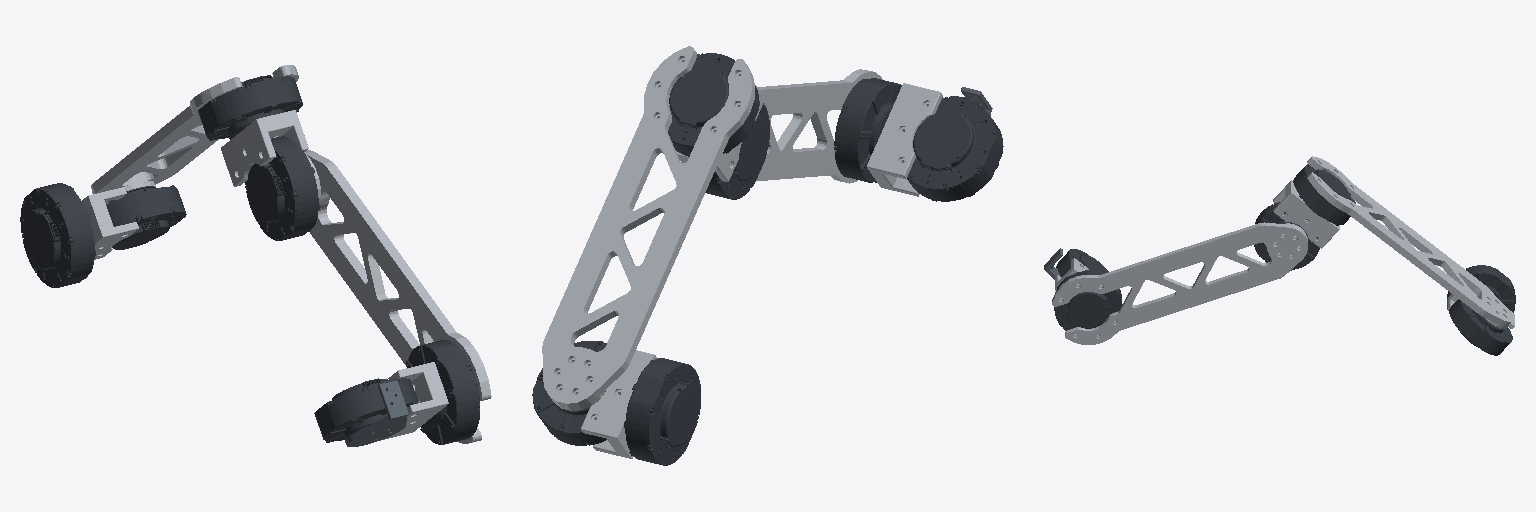
robot.urdf — qmini_arm:
<?xml version="1.0"?>
<robot name="qmini_arm">
  <!--
    Generated from Qmini-arm.SLDASM.
    Joint zero matches the saved CAD pose. All meshes and dimensions use SI units.
  -->
  <material name="motor_gray">
    <color rgba="0.27 0.29 0.32 1.0"/>
  </material>
  <material name="link_silver">
    <color rgba="0.72 0.74 0.77 1.0"/>
  </material>
  <material name="tool_gray">
    <color rgba="0.40 0.43 0.47 1.0"/>
  </material>
  <!-- Fixed GO-M8010-6 motor housing. -->
  <link name="base_link">
    <inertial>
      <origin rpy="0 0 0" xyz="0.001694875 0.000113148 0.000030767"/>
      <mass value="0.5"/>
      <inertia ixx="0.000552544" ixy="-7.06e-07" ixz="-2.61e-07" iyy="0.000317218" iyz="-5.587e-06" izz="0.000316759"/>
    </inertial>
    <visual>
      <origin rpy="0 0 0" xyz="0 0 0"/>
      <geometry>
        <mesh filename="meshes/visual/motor.stl"/>
      </geometry>
      <material name="motor_gray"/>
    </visual>
    <collision>
      <origin rpy="0 1.570796327 0" xyz="0 0 0"/>
      <geometry>
        <cylinder length="0.0423" radius="0.04825"/>
      </geometry>
    </collision>
  </link>
  <!-- Output of motor 1: first orthogonal bracket and motor 2 housing. -->
  <link name="link_1">
    <inertial>
      <origin rpy="0 0 0" xyz="0.075587838 0.000106623 0.000545006"/>
      <mass value="0.585848904"/>
      <inertia ixx="0.000390445" ixy="-2.165e-06" ixz="-3.57e-06" iyy="0.000629433" iyz="0.000134515" izz="0.000673929"/>
    </inertial>
    <visual>
      <origin rpy="0 -0.702123322 -1.570796327" xyz="0.021150004 -0.000400374 -0.000138396"/>
      <geometry>
        <mesh filename="meshes/visual/joint_bracket.stl"/>
      </geometry>
      <material name="link_silver"/>
    </visual>
    <visual>
      <origin rpy="2.297484930 -0.868673004 1.570796327" xyz="0.082449884 -0.000852249 -0.000673012"/>
      <geometry>
        <mesh filename="meshes/visual/motor.stl"/>
      </geometry>
      <material name="motor_gray"/>
    </visual>
    <collision>
      <origin rpy="0 -0.702123322 -1.570796327" xyz="0.041150004 -0.000400374 -0.000138396"/>
      <geometry>
        <box size="0.09 0.04 0.043"/>
      </geometry>
    </collision>
    <collision>
      <origin rpy="0.563778620 -0.443490870 -2.545301700" xyz="0.082449884 -0.000852249 -0.000673012"/>
      <geometry>
        <cylinder length="0.0423" radius="0.04825"/>
      </geometry>
    </collision>
  </link>
  <!-- Output of motor 2: first long arm and motor 3 housing. -->
  <link name="link_2">
    <inertial>
      <origin rpy="0 0 0" xyz="0.017320335 0.187087057 -0.166220843"/>
      <mass value="0.725038699"/>
      <inertia ixx="0.007191282" ixy="0.000370476" ixz="-0.000328071" iyy="0.00332923" iyz="0.00310238" izz="0.00406504"/>
    </inertial>
    <visual>
      <origin rpy="3.141592654 0.726688605 1.570796327" xyz="0.026150004 0.224214862 -0.199318093"/>
      <geometry>
        <mesh filename="meshes/visual/arm_link.stl"/>
      </geometry>
      <material name="link_silver"/>
    </visual>
    <visual>
      <origin rpy="1.453370820 0 -3.141592654" xyz="0.013000008 0.224214994 -0.199318371"/>
      <geometry>
        <mesh filename="meshes/visual/motor.stl"/>
      </geometry>
      <material name="motor_gray"/>
    </visual>
    <collision>
      <origin rpy="3.141592654 0.726688605 1.570796327" xyz="0.028650000 0.112108070 -0.099658330"/>
      <geometry>
        <box size="0.3003 0.015 0.075"/>
      </geometry>
    </collision>
    <collision>
      <origin rpy="1.570796327 0.117425510 -1.570796327" xyz="0.013000008 0.224214994 -0.199318371"/>
      <geometry>
        <cylinder length="0.0423" radius="0.04825"/>
      </geometry>
    </collision>
  </link>
  <!-- Output of motor 3: second orthogonal bracket and motor 4 housing. -->
  <link name="link_3">
    <inertial>
      <origin rpy="0 0 0" xyz="0.075420473 0.002699494 0.002954370"/>
      <mass value="0.585848904"/>
      <inertia ixx="0.000391982" ixy="-1.0197e-05" ixz="-1.1785e-05" iyy="0.000634832" iyz="0.000134596" izz="0.000667344"/>
    </inertial>
    <visual>
      <origin rpy="0 -0.726682211 -1.570796327" xyz="0.021150004 0.000000013 -0.000000002"/>
      <geometry>
        <mesh filename="meshes/visual/joint_bracket.stl"/>
      </geometry>
      <material name="link_silver"/>
    </visual>
    <visual>
      <origin rpy="-0.844107722 -0.844114116 1.570796327" xyz="0.082450124 0.001988742 0.002237564"/>
      <geometry>
        <mesh filename="meshes/visual/motor.stl"/>
      </geometry>
      <material name="motor_gray"/>
    </visual>
    <collision>
      <origin rpy="0 -0.726682211 -1.570796327" xyz="0.041150004 0.000000013 -0.000000002"/>
      <geometry>
        <box size="0.09 0.04 0.043"/>
      </geometry>
    </collision>
    <collision>
      <origin rpy="-0.586424700 0.457182900 0.586433260" xyz="0.082450124 0.001988742 0.002237564"/>
      <geometry>
        <cylinder length="0.0423" radius="0.04825"/>
      </geometry>
    </collision>
  </link>
  <!-- Output of motor 4: second long arm and motor 5 housing. -->
  <link name="link_4">
    <inertial>
      <origin rpy="0 0 0" xyz="0.017320335 -0.237495080 -0.078911412"/>
      <mass value="0.725038699"/>
      <inertia ixx="0.007191282" ixy="-0.000469355" ixz="-0.000156809" iyy="0.001194371" iyz="-0.001869837" izz="0.006199898"/>
    </inertial>
    <visual>
      <origin rpy="0 0.320515340 -1.570796327" xyz="0.026150004 -0.284721942 -0.094516711"/>
      <geometry>
        <mesh filename="meshes/visual/arm_link.stl"/>
      </geometry>
      <material name="link_silver"/>
    </visual>
    <visual>
      <origin rpy="-2.735419390 0 3.141592654" xyz="0.013000008 -0.284722248 -0.094516687"/>
      <geometry>
        <mesh filename="meshes/visual/motor.stl"/>
      </geometry>
      <material name="motor_gray"/>
    </visual>
    <collision>
      <origin rpy="0 0.320515340 -1.570796327" xyz="0.028650000 -0.142360960 -0.047258360"/>
      <geometry>
        <box size="0.3003 0.015 0.075"/>
      </geometry>
    </collision>
    <collision>
      <origin rpy="-1.570796327 -1.164623060 1.570796327" xyz="0.013000008 -0.284722248 -0.094516687"/>
      <geometry>
        <cylinder length="0.0423" radius="0.04825"/>
      </geometry>
    </collision>
  </link>
  <!-- Output of motor 5: third orthogonal bracket and motor 6 housing. -->
  <link name="link_5">
    <inertial>
      <origin rpy="0 0 0" xyz="0.075587838 -0.000319057 0.000788844"/>
      <mass value="0.585848904"/>
      <inertia ixx="0.000390445" ixy="1.919e-06" ixz="-3.708e-06" iyy="0.00054219" iyz="-8.1247e-05" izz="0.000761172"/>
    </inertial>
    <visual>
      <origin rpy="0 0.320515340 -1.570796327" xyz="0.021150004 0.000000013 -0.000000002"/>
      <geometry>
        <mesh filename="meshes/visual/joint_bracket.stl"/>
      </geometry>
      <material name="link_silver"/>
    </visual>
    <visual>
      <origin rpy="-0.844107722 -1.250280990 -1.570796327" xyz="0.082449884 0.000220822 -0.000664268"/>
      <geometry>
        <mesh filename="meshes/visual/motor.stl"/>
      </geometry>
      <material name="motor_gray"/>
    </visual>
    <collision>
      <origin rpy="0 0.320515340 -1.570796327" xyz="0.041150004 0.000000013 -0.000000002"/>
      <geometry>
        <box size="0.09 0.04 0.043"/>
      </geometry>
    </collision>
    <collision>
      <origin rpy="-0.243190450 0.210882060 -2.440767920" xyz="0.082449884 0.000220822 -0.000664268"/>
      <geometry>
        <cylinder length="0.0423" radius="0.04825"/>
      </geometry>
    </collision>
  </link>
  <!-- Output of motor 6: end-effector mounting bracket. -->
  <link name="link_6">
    <inertial>
      <origin rpy="0 0 0" xyz="0.021297679 0.013029405 -0.011594202"/>
      <mass value="0.021258163"/>
      <inertia ixx="1.8357e-05" ixy="-1.494e-06" ixz="1.332e-06" iyy="9.521e-06" iyz="5.556e-06" izz="1.0847e-05"/>
    </inertial>
    <visual>
      <origin rpy="0 0.726688605 1.570796327" xyz="0.026150004 0.000000013 -0.000000002"/>
      <geometry>
        <mesh filename="meshes/visual/tool_mount.stl"/>
      </geometry>
      <material name="tool_gray"/>
    </visual>
    <collision>
      <origin rpy="0 0.726688605 1.570796327" xyz="0.008650000 0.011444880 -0.010174160"/>
      <geometry>
        <box size="0.0894 0.035 0.059"/>
      </geometry>
    </collision>
  </link>
  <link name="tool0"/>
  <joint name="joint_1" type="revolute">
    <origin rpy="0 0 0" xyz="0 0 0"/>
    <parent link="base_link"/>
    <child link="link_1"/>
    <axis xyz="1 0 0"/>
    <limit effort="23.7" lower="-2.617993878" upper="2.617993878" velocity="3.0"/>
    <dynamics damping="0.08" friction="0.0"/>
    <safety_controller k_position="20.0" k_velocity="2.0" soft_lower_limit="-2.530727415" soft_upper_limit="2.530727415"/>
  </joint>
  <joint name="joint_2" type="revolute">
    <origin rpy="2.297484930 -0.868673004 1.570796327" xyz="0.082449884 -0.000852249 -0.000673012"/>
    <parent link="link_1"/>
    <child link="link_2"/>
    <axis xyz="1 0 0"/>
    <limit effort="23.7" lower="-2.617993878" upper="2.617993878" velocity="3.0"/>
    <dynamics damping="0.08" friction="0.0"/>
    <safety_controller k_position="20.0" k_velocity="2.0" soft_lower_limit="-2.530727415" soft_upper_limit="2.530727415"/>
  </joint>
  <joint name="joint_3" type="revolute">
    <origin rpy="1.453370820 0 -3.141592654" xyz="0.013000008 0.224214994 -0.199318371"/>
    <parent link="link_2"/>
    <child link="link_3"/>
    <axis xyz="1 0 0"/>
    <limit effort="23.7" lower="-2.617993878" upper="2.617993878" velocity="3.0"/>
    <dynamics damping="0.08" friction="0.0"/>
    <safety_controller k_position="20.0" k_velocity="2.0" soft_lower_limit="-2.530727415" soft_upper_limit="2.530727415"/>
  </joint>
  <joint name="joint_4" type="revolute">
    <origin rpy="-0.844107722 -0.844114116 1.570796327" xyz="0.082450124 0.001988742 0.002237564"/>
    <parent link="link_3"/>
    <child link="link_4"/>
    <axis xyz="1 0 0"/>
    <limit effort="23.7" lower="-2.617993878" upper="2.617993878" velocity="3.0"/>
    <dynamics damping="0.08" friction="0.0"/>
    <safety_controller k_position="20.0" k_velocity="2.0" soft_lower_limit="-2.530727415" soft_upper_limit="2.530727415"/>
  </joint>
  <joint name="joint_5" type="revolute">
    <origin rpy="-2.735419390 0 3.141592654" xyz="0.013000008 -0.284722248 -0.094516687"/>
    <parent link="link_4"/>
    <child link="link_5"/>
    <axis xyz="1 0 0"/>
    <limit effort="23.7" lower="-2.617993878" upper="2.617993878" velocity="3.0"/>
    <dynamics damping="0.08" friction="0.0"/>
    <safety_controller k_position="20.0" k_velocity="2.0" soft_lower_limit="-2.530727415" soft_upper_limit="2.530727415"/>
  </joint>
  <joint name="joint_6" type="revolute">
    <origin rpy="-0.844107722 -1.250280990 -1.570796327" xyz="0.082449884 0.000220822 -0.000664268"/>
    <parent link="link_5"/>
    <child link="link_6"/>
    <axis xyz="1 0 0"/>
    <limit effort="23.7" lower="-2.617993878" upper="2.617993878" velocity="3.0"/>
    <dynamics damping="0.08" friction="0.0"/>
    <safety_controller k_position="20.0" k_velocity="2.0" soft_lower_limit="-2.530727415" soft_upper_limit="2.530727415"/>
  </joint>
  <joint name="tool0_fixed_joint" type="fixed">
    <origin rpy="0 0.726688605 1.570796327" xyz="0.008650004 0.044842728 -0.039863907"/>
    <parent link="link_6"/>
    <child link="tool0"/>
  </joint>
</robot>

--- Render facts (derived) ---
The picture shows the robot from 3 angles, left to right: view 1: azimuth 30°, elevation 25°; view 2: azimuth 150°, elevation 25°; view 3: azimuth 270°, elevation 25°; orthographic projection.
Model qmini_arm with 8 links and 7 joints (6 revolute, 1 fixed), rooted at base_link, posed all joints at 0.
Links seen in each view (by area): view 1: link_4, link_2, link_3, base_link, link_5, link_1, link_6; view 2: link_2, link_5, link_4, base_link, link_1, link_3; view 3: link_4, link_2, link_3, link_1, base_link, link_5.
Boxes of the visible links, x1=… form: link_4: x1=304, y1=150, x2=491, y2=444; link_2: x1=91, y1=65, x2=302, y2=193; link_3: x1=221, y1=110, x2=319, y2=240; base_link: x1=20, y1=183, x2=95, y2=287; link_5: x1=314, y1=362, x2=448, y2=442; link_1: x1=82, y1=185, x2=186, y2=259; link_6: x1=345, y1=380, x2=408, y2=446; link_2: x1=542, y1=46, x2=759, y2=410; link_5: x1=867, y1=83, x2=1003, y2=201; link_4: x1=756, y1=69, x2=901, y2=183; base_link: x1=624, y1=358, x2=700, y2=465; link_1: x1=532, y1=341, x2=657, y2=458; link_3: x1=676, y1=85, x2=769, y2=199; link_4: x1=1052, y1=222, x2=1307, y2=344; link_2: x1=1293, y1=156, x2=1512, y2=328; link_3: x1=1254, y1=180, x2=1339, y2=270; link_1: x1=1447, y1=289, x2=1514, y2=355; base_link: x1=1447, y1=265, x2=1515, y2=312; link_5: x1=1055, y1=249, x2=1108, y2=290.
Size in the robot's own frame: 0.1656 by 0.6676 by 0.2978 metres.
12 mesh visuals loaded from 4 distinct referenced files (4 binary STL).
